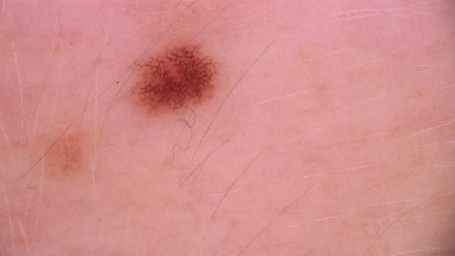nevus: (135, 44, 216, 110)
